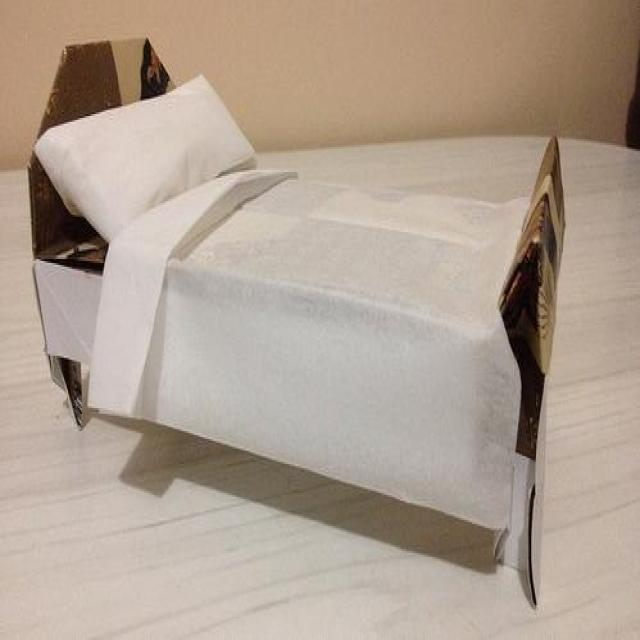bed: (24, 37, 566, 613)
